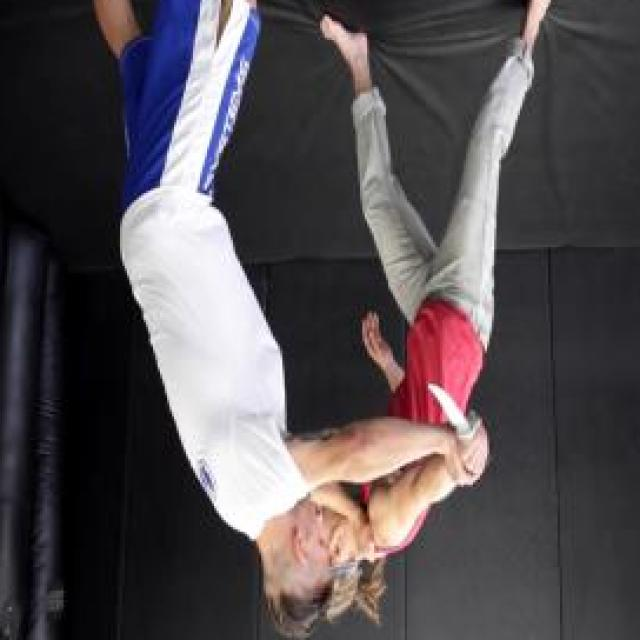knife: (422, 375, 497, 471)
